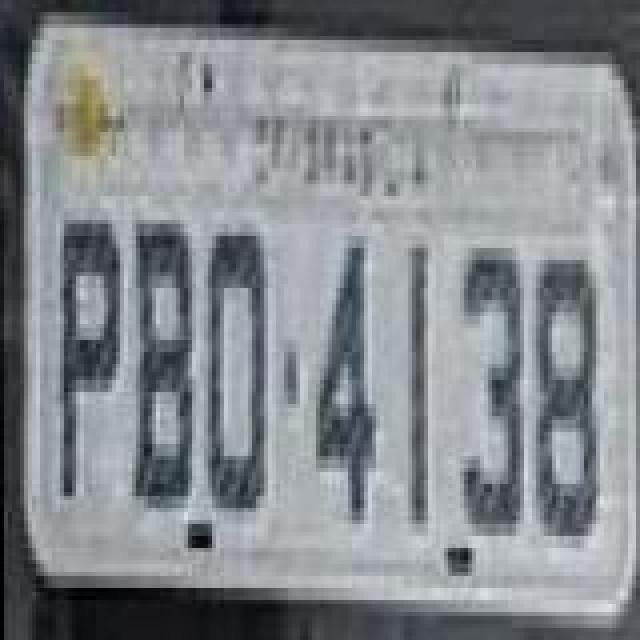1: (406, 240, 430, 536)
3: (454, 240, 526, 544)
4: (314, 236, 378, 524)
8: (538, 252, 602, 548)
B: (130, 214, 194, 506)
O: (202, 226, 266, 518)
P: (58, 214, 122, 506)
